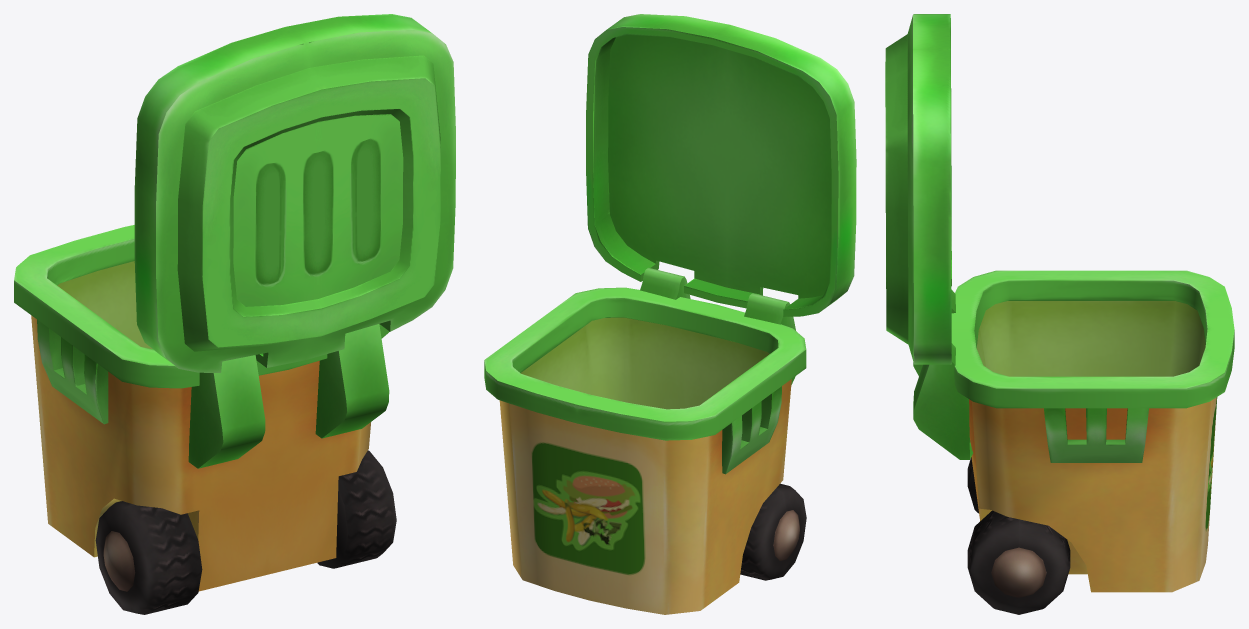
Rendered from 3D_housework_dustbin.FBX.
3 views of the same model, side by side, from view 1: azimuth 30°, elevation 25°; view 2: azimuth 150°, elevation 25°; view 3: azimuth 270°, elevation 25° (orthographic). The views are drawn at different scales.
Visible parts, largest first — view 1: 3D_housework_dustbin_top, 3D_housework_dustbin; view 2: 3D_housework_dustbin, 3D_housework_dustbin_top; view 3: 3D_housework_dustbin, 3D_housework_dustbin_top.
Part boxes in pixels (x1=…): 3D_housework_dustbin_top: x1=134, y1=14, x2=455, y2=372; 3D_housework_dustbin: x1=14, y1=225, x2=396, y2=614; 3D_housework_dustbin: x1=484, y1=267, x2=806, y2=614; 3D_housework_dustbin_top: x1=586, y1=14, x2=856, y2=316; 3D_housework_dustbin: x1=913, y1=270, x2=1234, y2=614; 3D_housework_dustbin_top: x1=885, y1=14, x2=951, y2=364.
Bounding box in the file's own units: 1.17 × 2.17 × 1.33.
